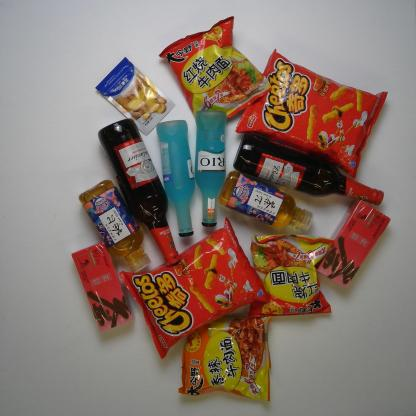Alcohol: (95, 117, 183, 267), (231, 129, 387, 207), (154, 118, 200, 241), (191, 107, 230, 229)
Drink: (76, 178, 153, 276), (216, 168, 317, 233)
Instant Drink: (314, 194, 392, 292), (70, 238, 134, 335)
Instant Noodles: (155, 15, 273, 122), (173, 313, 274, 403), (244, 230, 336, 320)
Puffed Food: (116, 214, 271, 362), (232, 46, 389, 180)
Seasoner: (92, 55, 177, 138)
